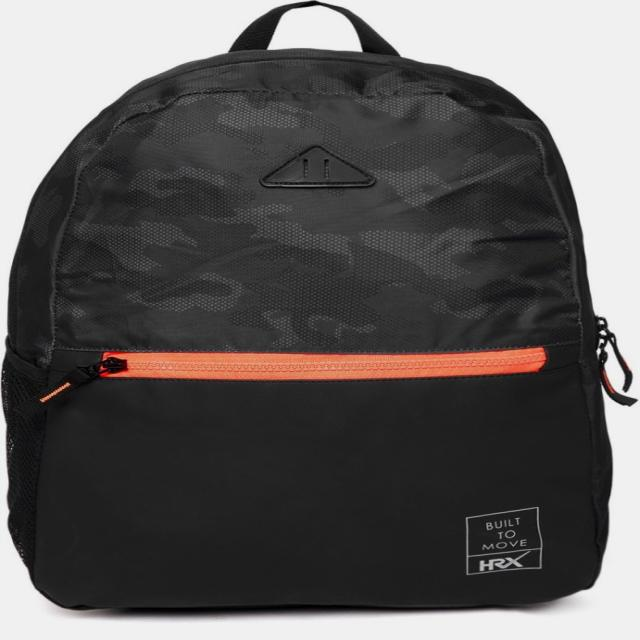backpack: (3, 2, 637, 612)
